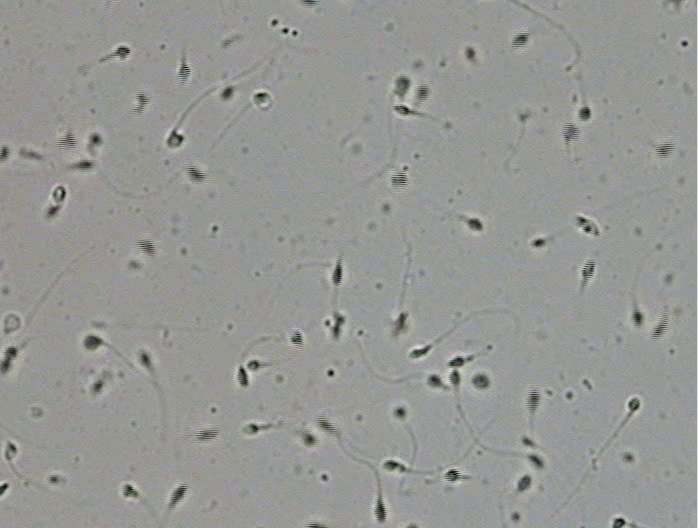S: (574, 215, 600, 237), (169, 484, 188, 506), (330, 314, 345, 339), (526, 387, 540, 413), (390, 170, 409, 189), (562, 122, 580, 142), (185, 166, 205, 183), (135, 239, 155, 256), (655, 141, 675, 158), (392, 313, 408, 334), (394, 77, 411, 96), (652, 320, 668, 340), (177, 63, 191, 85), (136, 91, 150, 113), (582, 260, 596, 282), (167, 130, 184, 148), (374, 500, 387, 523), (196, 428, 218, 441), (409, 345, 431, 358), (57, 133, 76, 148), (83, 335, 102, 350), (316, 418, 336, 432), (236, 366, 249, 387), (511, 32, 528, 48), (332, 262, 343, 286), (631, 308, 644, 328), (415, 84, 429, 102), (52, 185, 66, 203), (4, 442, 17, 461), (517, 475, 532, 491), (577, 105, 592, 121), (121, 484, 138, 498), (466, 218, 484, 231), (301, 433, 317, 447), (472, 374, 488, 388), (528, 454, 544, 468), (74, 160, 94, 171), (115, 46, 131, 59), (444, 469, 460, 482), (290, 330, 303, 345), (427, 375, 442, 388), (449, 370, 461, 386), (448, 356, 465, 367), (253, 92, 268, 104), (46, 205, 61, 217), (3, 347, 18, 359), (139, 351, 151, 366), (392, 105, 410, 115), (89, 133, 102, 146), (628, 397, 640, 411), (243, 424, 259, 434), (530, 238, 546, 248), (221, 86, 233, 99), (393, 406, 406, 418), (383, 460, 398, 470), (91, 381, 103, 393), (522, 437, 536, 447), (612, 518, 626, 528), (1, 145, 10, 160), (465, 47, 476, 59), (247, 360, 260, 370), (1, 359, 10, 373), (301, 1, 317, 8), (1, 482, 8, 496), (306, 522, 321, 528)
